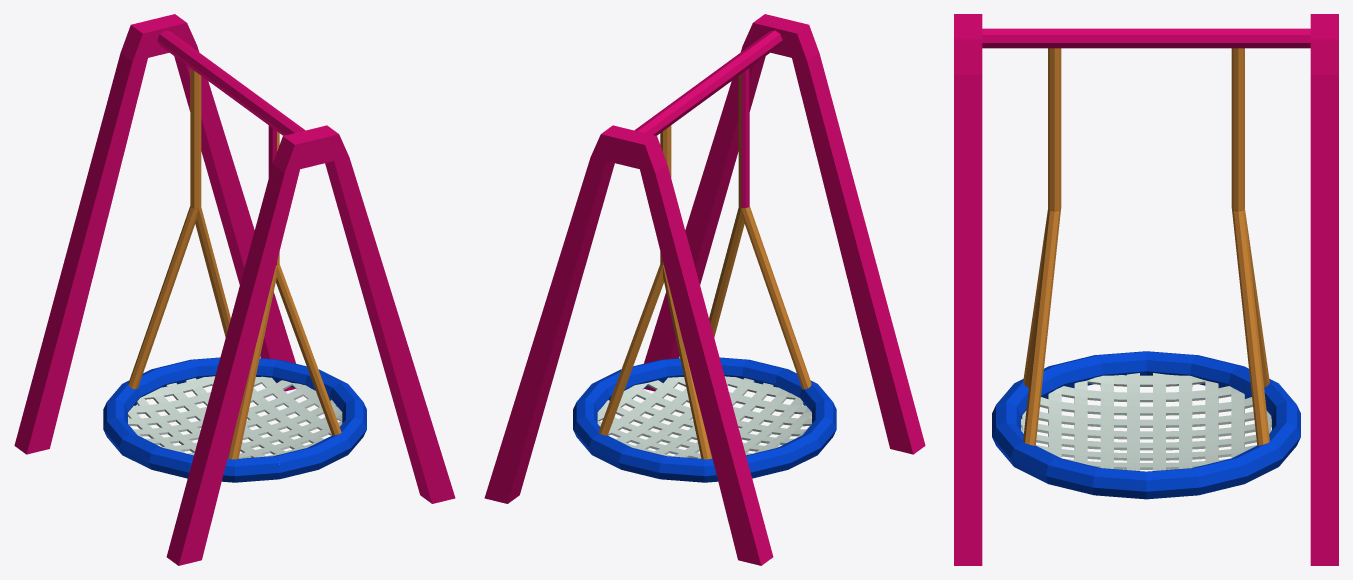
The model's file is koheli.fbx.
The picture shows the model from 3 angles, left to right: view 1: azimuth 30°, elevation 25°; view 2: azimuth 150°, elevation 25°; view 3: azimuth 270°, elevation 25°; orthographic projection. The views are drawn at different scales.
Visible parts, largest first — view 1: Cube.002; view 2: Cube.002; view 3: Cube.002.
Boxes of the visible parts, x1,y1,x2,y2 form: Cube.002: [14, 14, 455, 565]; Cube.002: [484, 14, 925, 565]; Cube.002: [954, 14, 1338, 565].
Size of the model in its own units: 396 by 537 by 407.
